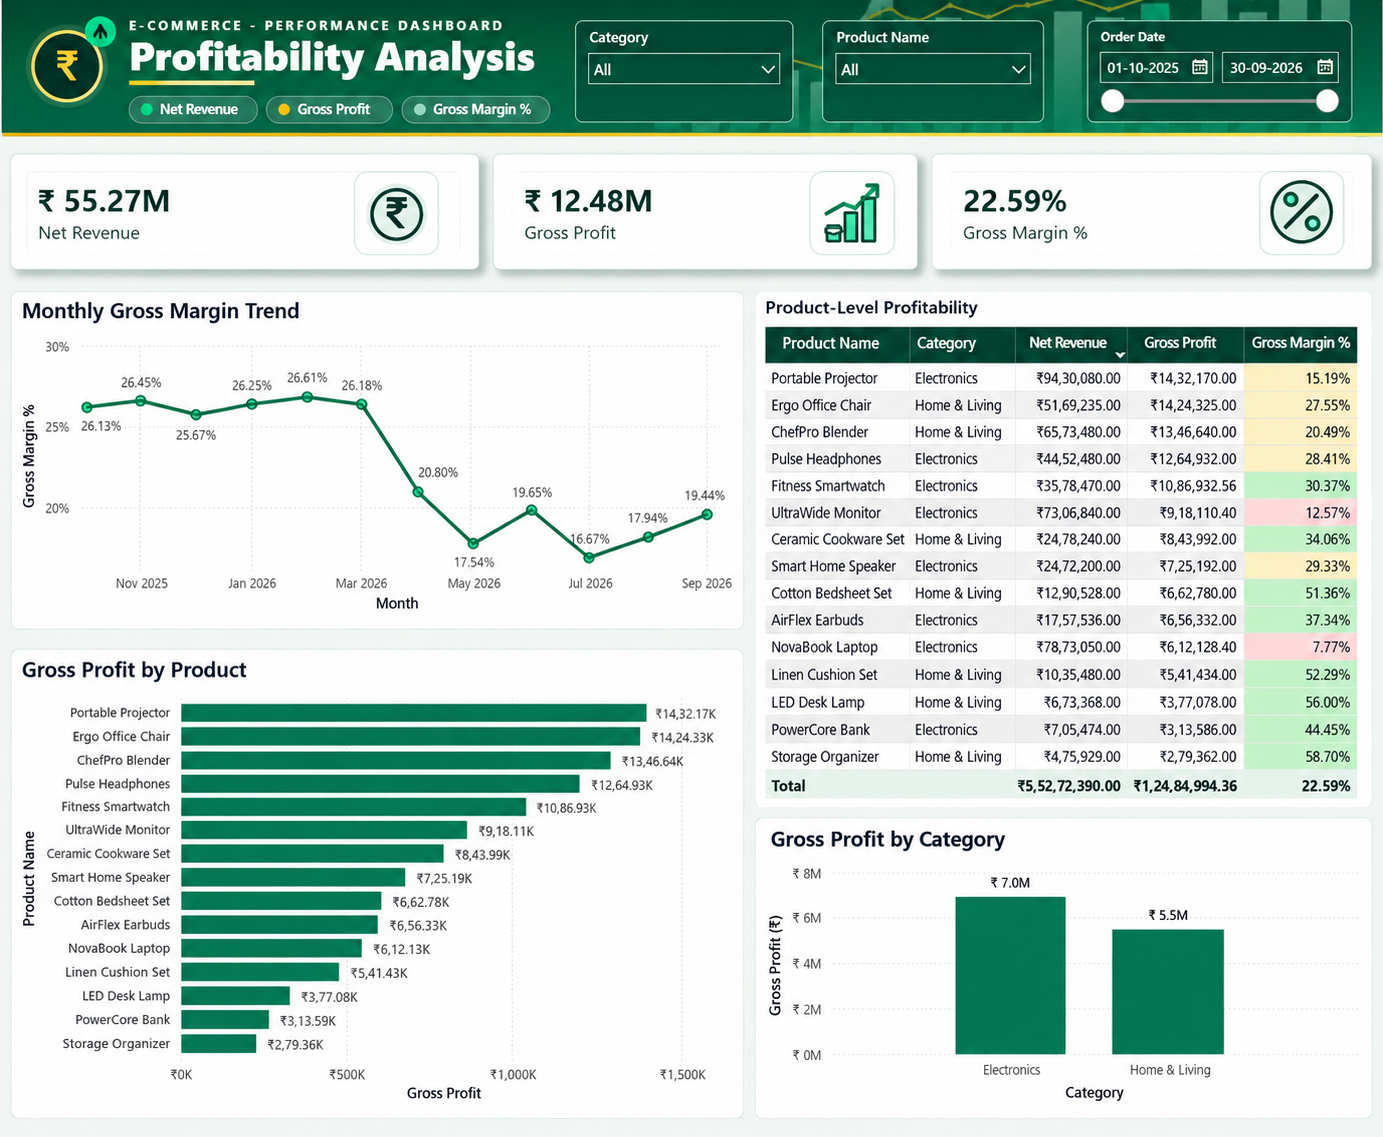

Layout of this report page (visuals, bound fields, positions):
{"tool":"powerbi","page":{"name":"Page 1","canvas":[1500,1250],"ordinal":0},"visuals":[{"type":"image","box":[12.6,0,1470.3,159.2],"z":0},{"type":"cardVisual","fields":{"Data":["Measures (2).Net Revenue"]},"box":[12.6,159.2,515.3,129.9],"z":1000},{"type":"cardVisual","fields":{"Data":["Measures (2).Gross Profit"]},"box":[544.6,159.2,456.6,129.9],"z":2000},{"type":"cardVisual","fields":{"Data":["Measures (2).Gross Margin %"]},"box":[1017.9,159.2,465,129.9],"z":3000},{"type":"lineChart","title":"Monthly Gross Margin Trend","fields":{"Y":["Measures (2).Gross Margin %"],"Category":["ecommerce_profitability_large orders.order_date.Variation.Date Hierarchy.Year","ecommerce_profitability_large orders.order_date.Variation.Date Hierarchy.Month"]},"box":[12.1,317.7,796.3,327.7],"z":4000},{"type":"clusteredColumnChart","title":"Gross Profit by Category","fields":{"Category":["ecommerce_profitability_large products.category"],"Y":["Measures (2).Gross Profit"]},"box":[823.1,902.7,659.8,320.5],"z":5000},{"type":"tableEx","title":"Product-Level Profitability","fields":{"Values":["ecommerce_profitability_large products.product_name","ecommerce_profitability_large products.category","Measures (2).Net Revenue","Measures (2).Gross Profit","Measures (2).Gross Margin %"]},"box":[823.1,318.4,659.8,584.4],"z":6000},{"type":"clusteredBarChart","title":"Gross Profit by Product","fields":{"Category":["ecommerce_profitability_large products.product_name"],"Y":["Measures (2).Gross Profit"]},"box":[12.6,674.4,795.9,548.8],"z":7000},{"type":"slicer","fields":{"Values":["ecommerce_profitability_large products.category"]},"box":[657.7,29.3,230,100],"z":8000},{"type":"slicer","fields":{"Values":["ecommerce_profitability_large products.product_name"]},"box":[926.8,29.3,230,100.5],"z":9000},{"type":"slicer","fields":{"Values":["ecommerce_profitability_large orders.order_date"]},"box":[1196,29.3,230.4,100.5],"z":10000},{"type":"image","box":[339.3,182.2,188.5,94.3],"z":11000},{"type":"image","box":[839.9,182.2,188.5,94.3],"z":12000},{"type":"image","box":[1311.2,178,188.5,94.3],"z":13000}]}

Visuals, with their boxes in screenshot pixels (x1, y1, x2, y2), scaled from the page's 1500x1250 canvas onto the 1383x1137 screenshot:
image: 12 0 1367 145
cardVisual - Measures (2).Net Revenue: 12 145 487 263
cardVisual - Measures (2).Gross Profit: 502 145 923 263
cardVisual - Measures (2).Gross Margin %: 939 145 1367 263
"Monthly Gross Margin Trend" lineChart: 11 289 745 587
"Gross Profit by Category" clusteredColumnChart: 759 821 1367 1113
"Product-Level Profitability" tableEx: 759 290 1367 821
"Gross Profit by Product" clusteredBarChart: 12 613 745 1113
slicer - ecommerce_profitability_large products.category: 606 27 818 118
slicer - ecommerce_profitability_large products.product_name: 855 27 1067 118
slicer - ecommerce_profitability_large orders.order_date: 1103 27 1315 118
image: 313 166 487 252
image: 774 166 948 252
image: 1209 162 1382 248
